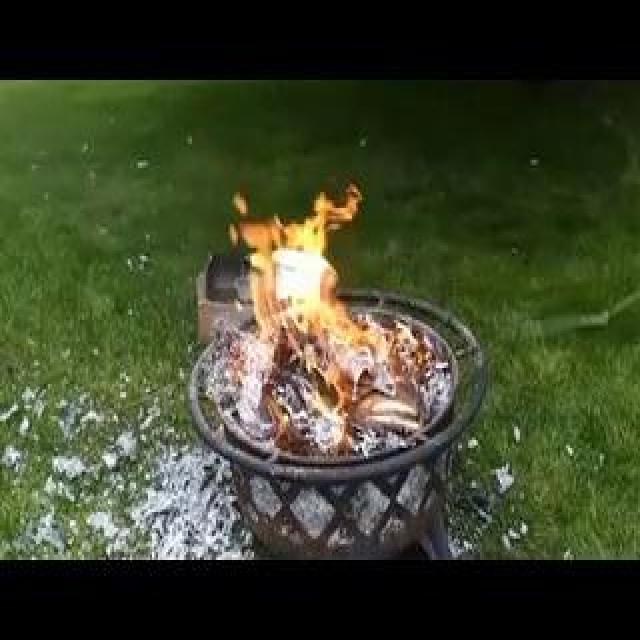Fire: (198, 288, 328, 312)
